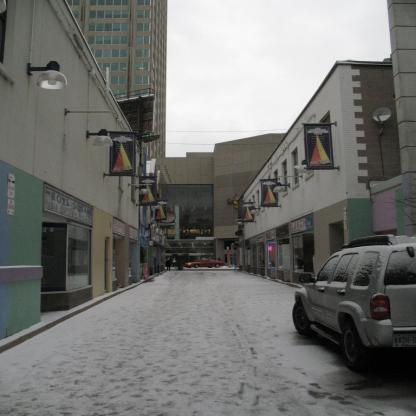Car: (292, 232, 413, 372), (183, 258, 225, 268)
